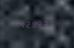eight: (30, 20, 35, 28)
four: (17, 20, 22, 28), (48, 19, 53, 27)
three: (42, 19, 47, 27)
two: (23, 20, 28, 28), (36, 20, 41, 27)
